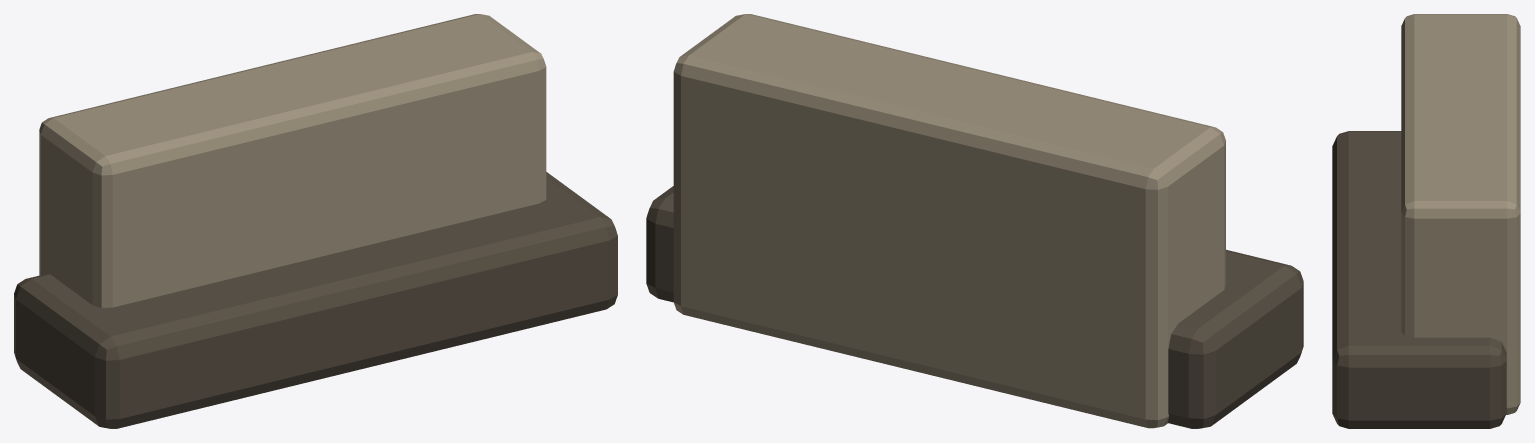
The model's file is rubble_cover_high_LOD1.glb.
3 renders of one model, left to right at view 1: azimuth 30°, elevation 25°; view 2: azimuth 150°, elevation 25°; view 3: azimuth 270°, elevation 25°, orthographic. The views are drawn at different scales.
Parts seen in each view (by area): view 1: LOD1_HighCore, LOD1_HighShoulder; view 2: LOD1_HighCore, LOD1_HighShoulder; view 3: LOD1_HighCore, LOD1_HighShoulder.
Part boxes in pixels (x1,y1,x2,y2): LOD1_HighCore: (39, 14, 546, 308); LOD1_HighShoulder: (14, 172, 617, 428); LOD1_HighCore: (673, 14, 1225, 428); LOD1_HighShoulder: (646, 186, 1303, 428); LOD1_HighCore: (1401, 14, 1520, 414); LOD1_HighShoulder: (1332, 131, 1506, 428).
Size of the model in its own units: 3.25 by 1.42 by 1.13.
